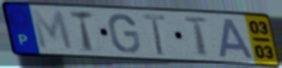A: (219, 17, 257, 60)
G: (107, 12, 142, 55)
M: (29, 8, 76, 52)
T: (140, 12, 168, 58), (68, 9, 96, 54), (182, 16, 211, 58)
